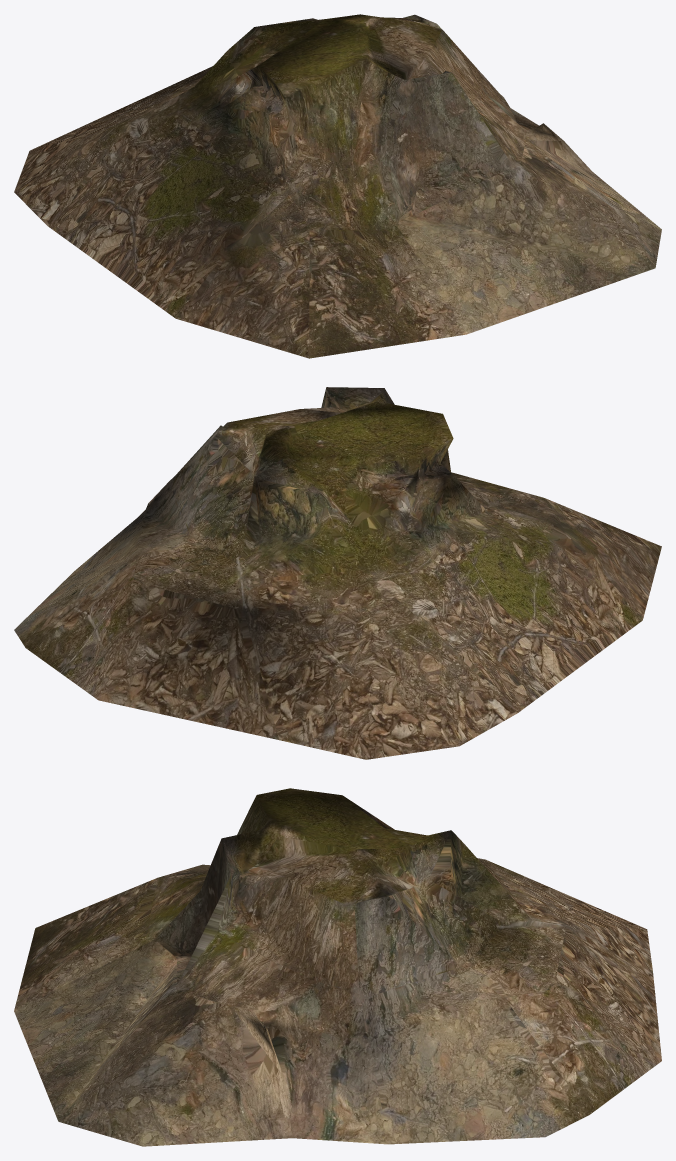
The model's file is log-lod.glb.
The picture shows the model from 3 angles, top to bottom: view 1: azimuth 30°, elevation 25°; view 2: azimuth 150°, elevation 25°; view 3: azimuth 270°, elevation 25°; orthographic projection. The views are drawn at different scales.
Parts seen in each view (by area): view 1: tree_stump_01; view 2: tree_stump_01; view 3: tree_stump_01.
Part boxes in pixels (<box>): tree_stump_01: <box>14,14,661,358</box>; tree_stump_01: <box>14,387,661,759</box>; tree_stump_01: <box>14,788,661,1146</box>.
Size of the model in its own units: 1.42 by 0.5398 by 1.59.
1 material, 1 textured.
